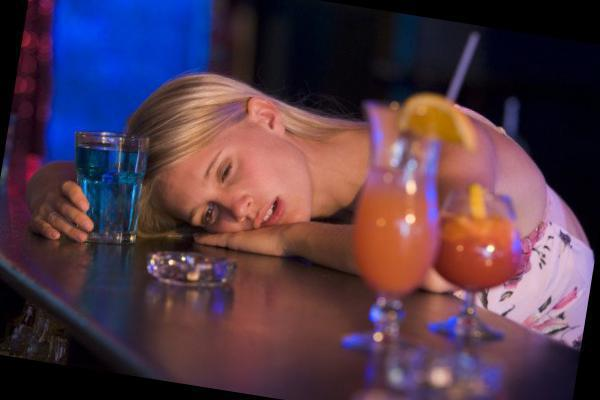Drunk: (155, 133, 305, 232)
